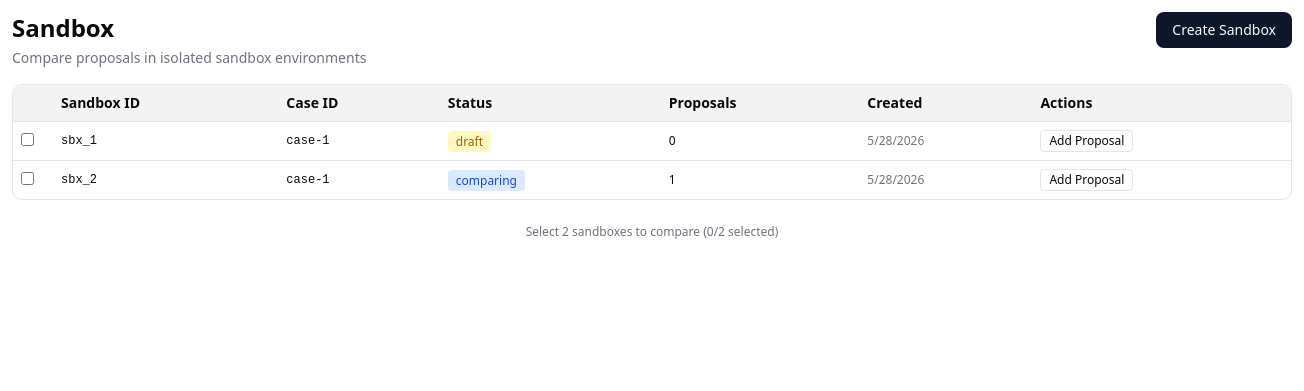
Test: SandboxCompare › shows comparison results when two sandboxes are selected
Expected: the text "sbx_1" is shown, [53,122,278,160]
Click the checkbox next to "sbx_1": (28, 140) [21,133,34,146]
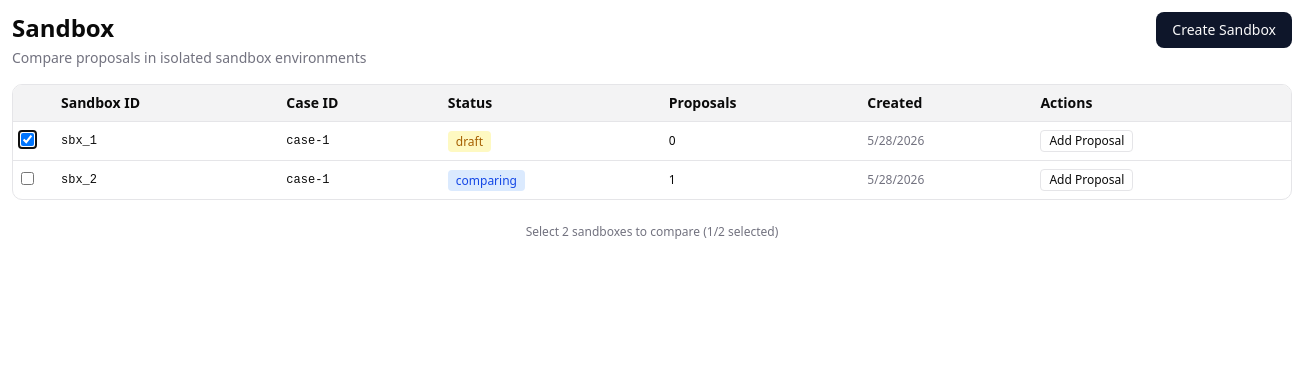
Click the checkbox next to "sbx_2": (28, 178) [21,172,34,185]
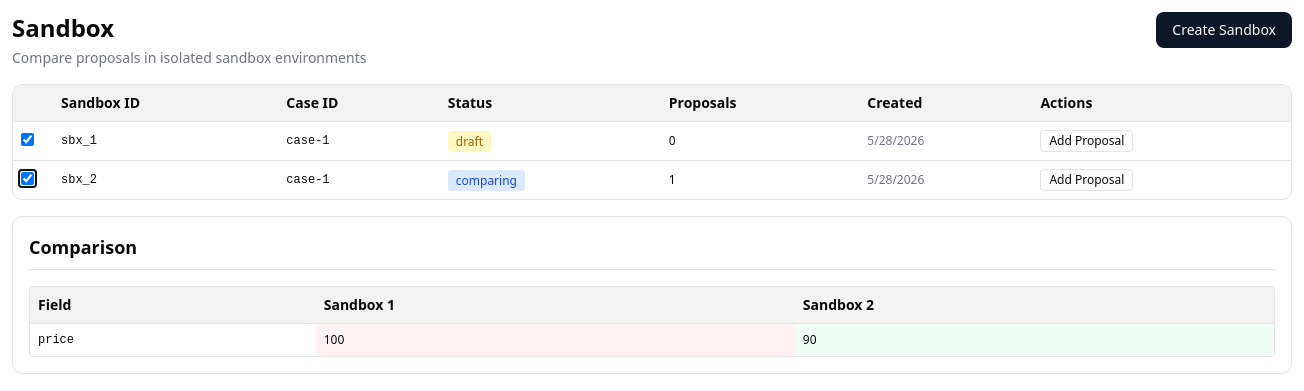
Expected: the heading "Comparison" is shown, [29,233,1275,270]
Expected: the text "price" is shown, [30,324,316,356]
Expected: the text "100" is shown, [316,324,795,356]
